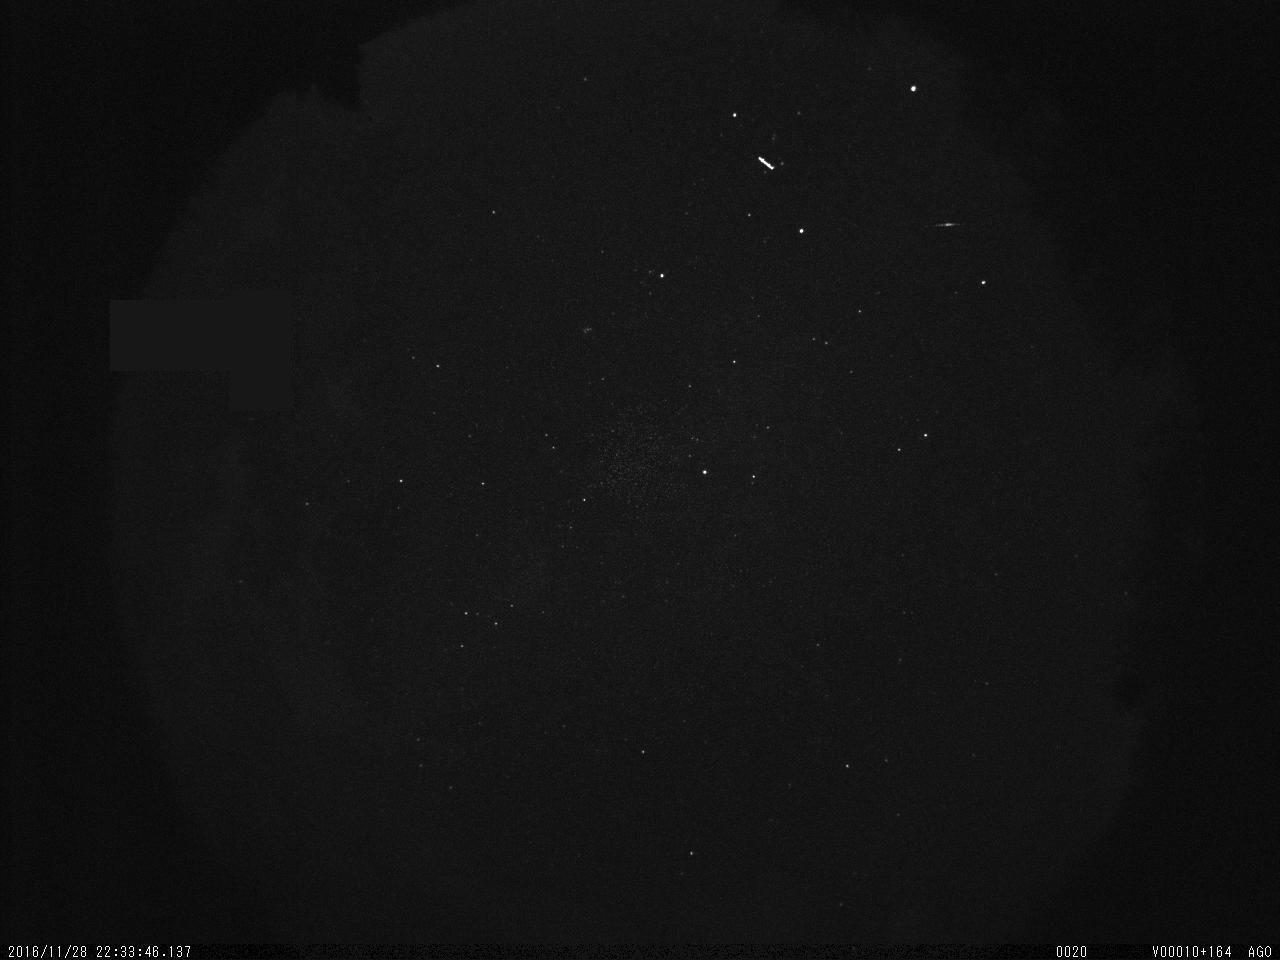Meteor: (919, 219, 968, 234)
